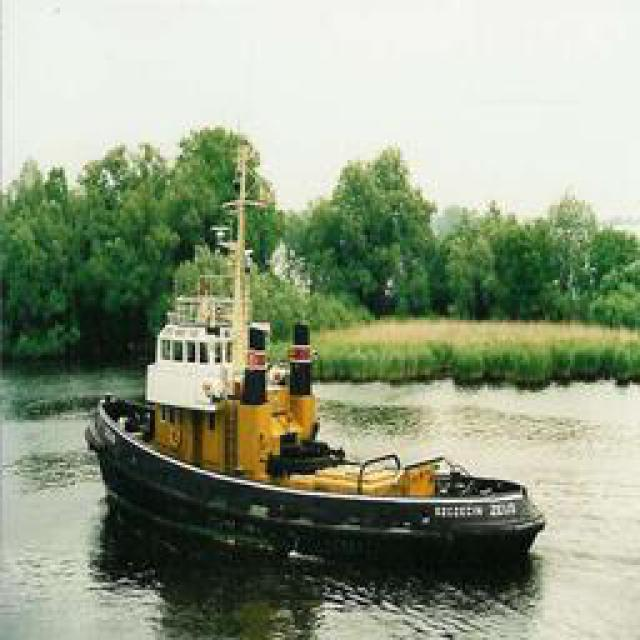Ship: (87, 298, 540, 566)
